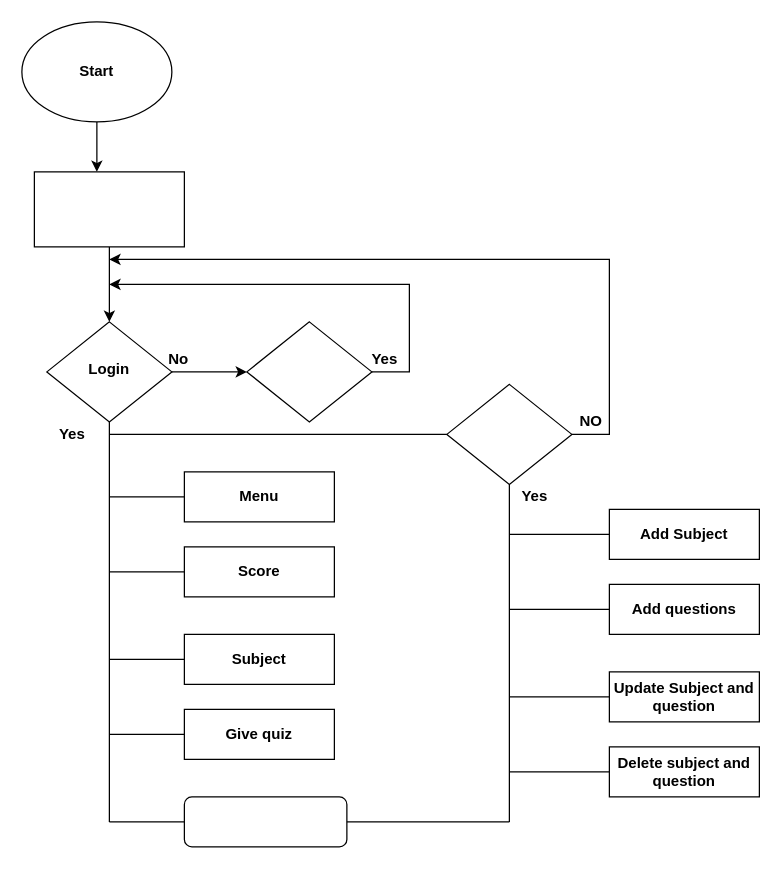
This 781x869 diagram has some shape labels left out. Each missing label, with the centre of its shape:
"is_Admin" goes at (x=509, y=433).
"LogOut" goes at (x=265, y=821).
"Sign Up" goes at (x=309, y=371).
"User" goes at (x=108, y=209).
